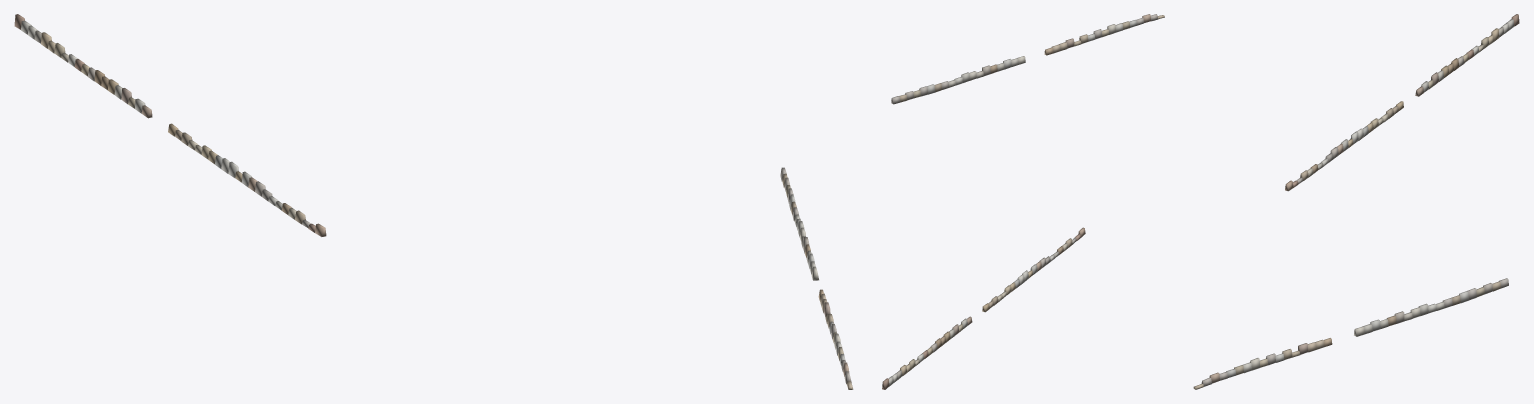
The model's file is farm_-6_-14_far.glb.
3 views of the same model, side by side, from view 1: azimuth 30°, elevation 25°; view 2: azimuth 150°, elevation 25°; view 3: azimuth 330°, elevation 25° (orthographic). The views are drawn at different scales.
Visible parts, largest first — view 1: geometry_0; view 2: geometry_0; view 3: geometry_0.
Part boxes in pixels (bbox=[...]): geometry_0: bbox=[14, 14, 853, 389]; geometry_0: bbox=[882, 14, 1164, 389]; geometry_0: bbox=[1193, 14, 1519, 389].
Bounding box in the file's own units: 53.31 × 7.1 × 151.
